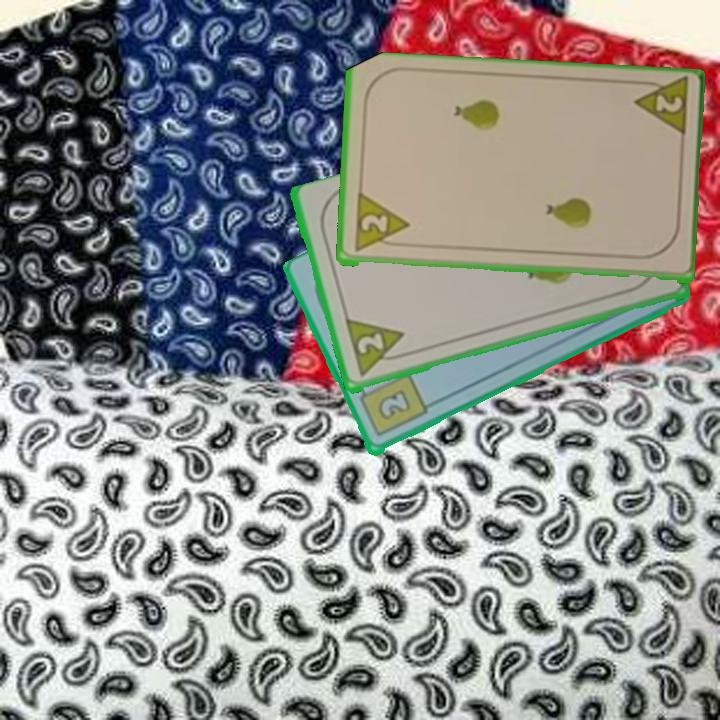2b: (355, 370, 430, 440)
2p: (341, 316, 412, 381), (629, 77, 691, 142), (357, 211, 390, 237)
